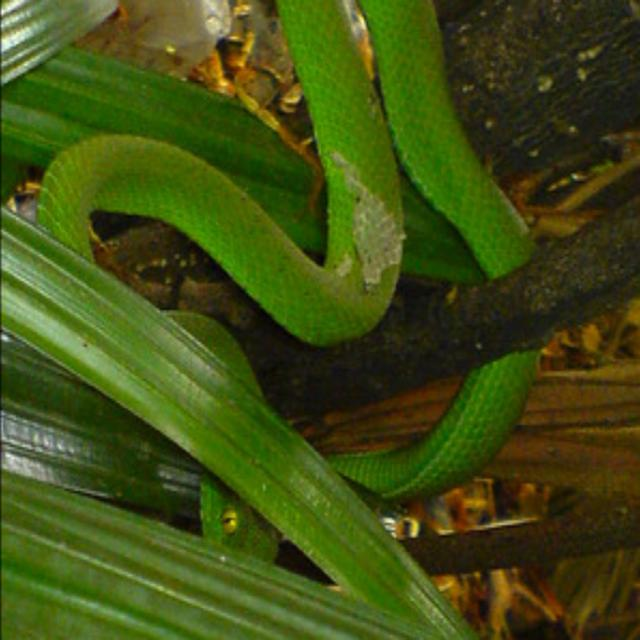Snake: (32, 1, 514, 566)
